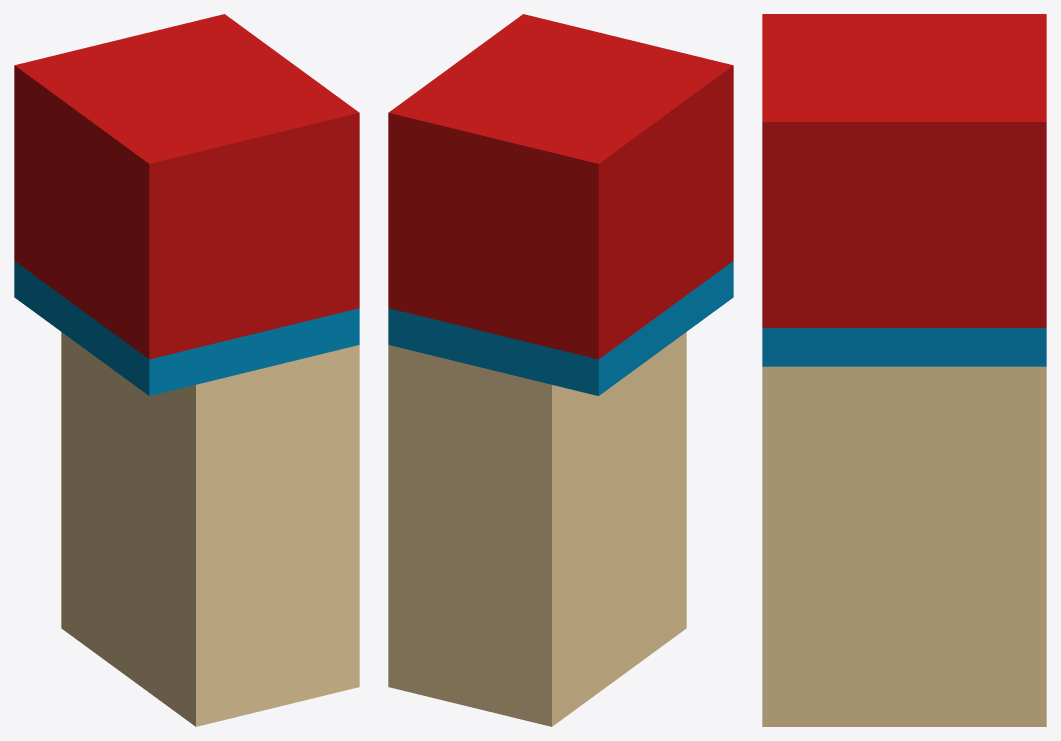
File: woodenman-3.obj
3 renders of one model, left to right at view 1: azimuth 30°, elevation 25°; view 2: azimuth 150°, elevation 25°; view 3: azimuth 270°, elevation 25°, orthographic. The views are drawn at different scales.
Bounding box in the file's own units: 1.8 × 4.7 × 2.
1 material, 1 textured.
